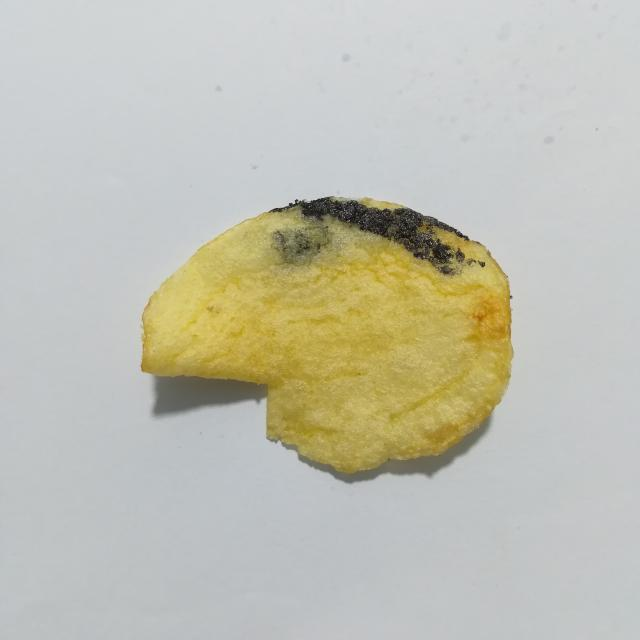chip: (141, 197, 513, 472)
damaged: (270, 197, 469, 274), (466, 258, 485, 267), (456, 248, 465, 263)
semi-damaged: (271, 215, 385, 263)
